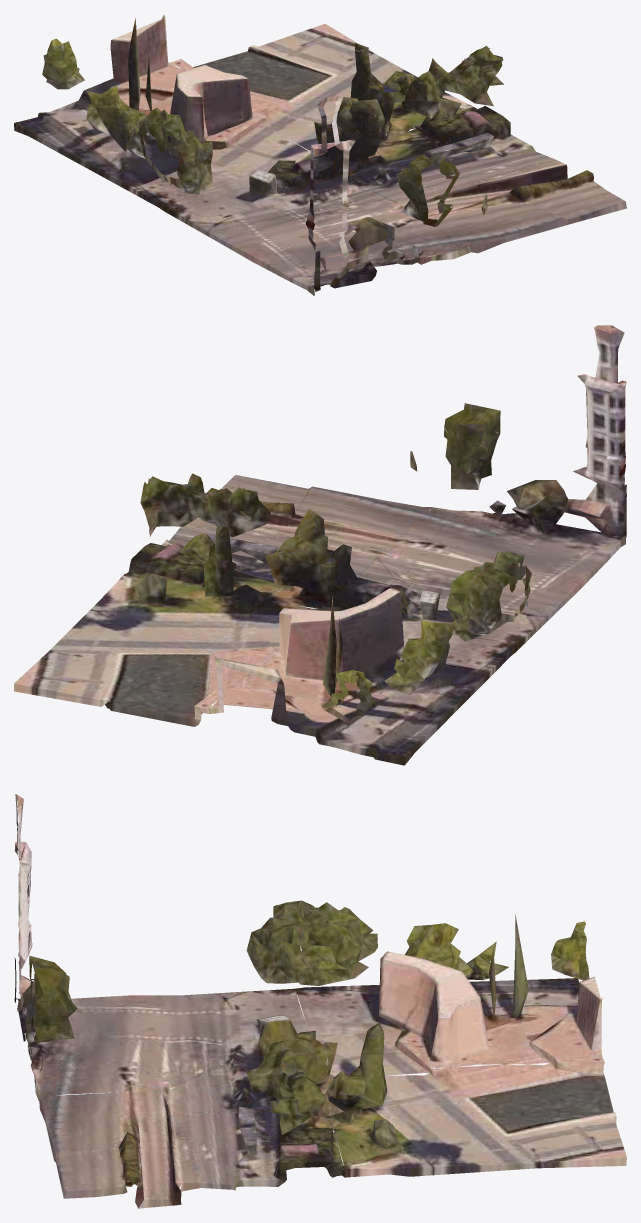
3 renders of one model, top to bottom at view 1: azimuth 30°, elevation 25°; view 2: azimuth 150°, elevation 25°; view 3: azimuth 270°, elevation 25°, orthographic. The views are drawn at different scales.
Parts seen in each view (by area): view 1: Mesh_0; view 2: Mesh_0; view 3: Mesh_0.
Part boxes in pixels (<box>): Mesh_0: <box>14,15,626,295</box>; Mesh_0: <box>14,325,626,765</box>; Mesh_0: <box>14,794,626,1208</box>.
Bounding box in the file's own units: 66.57 × 36.04 × 82.51.
Materials: 1 (1 with a texture image).
